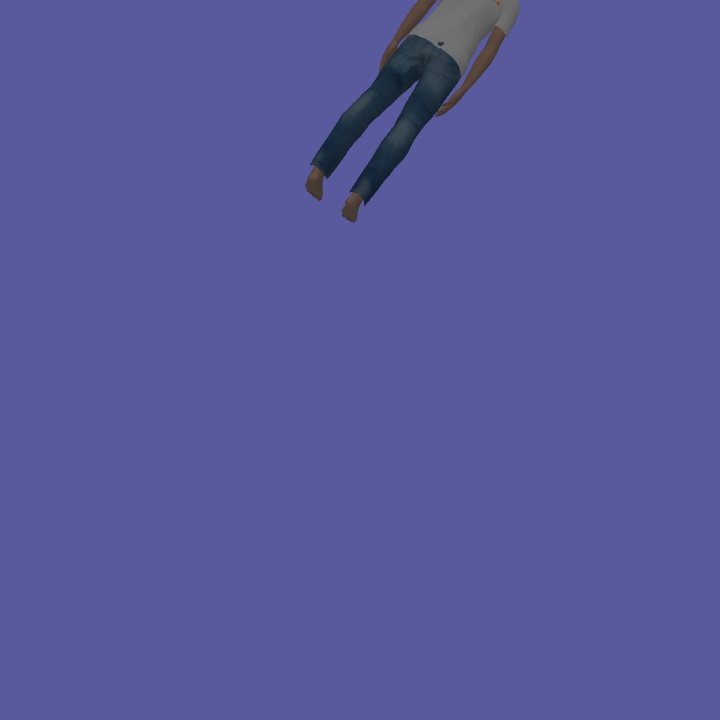victim: (302, 1, 528, 226)
